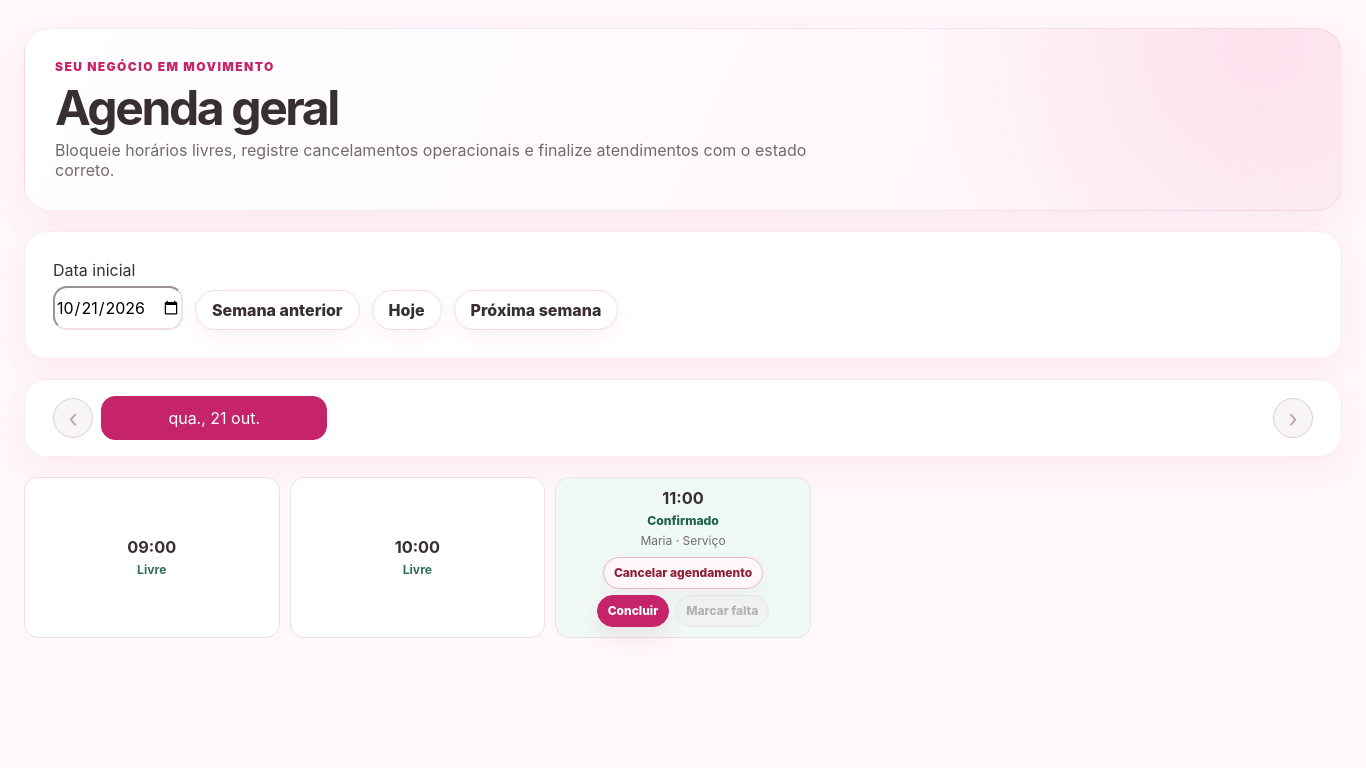
recuperação e período da agenda da dona › exige leitura canônica após resposta de escrita incerta
Click the button "09:00 Livre".
click(152, 557)  # box [24,477,280,638]
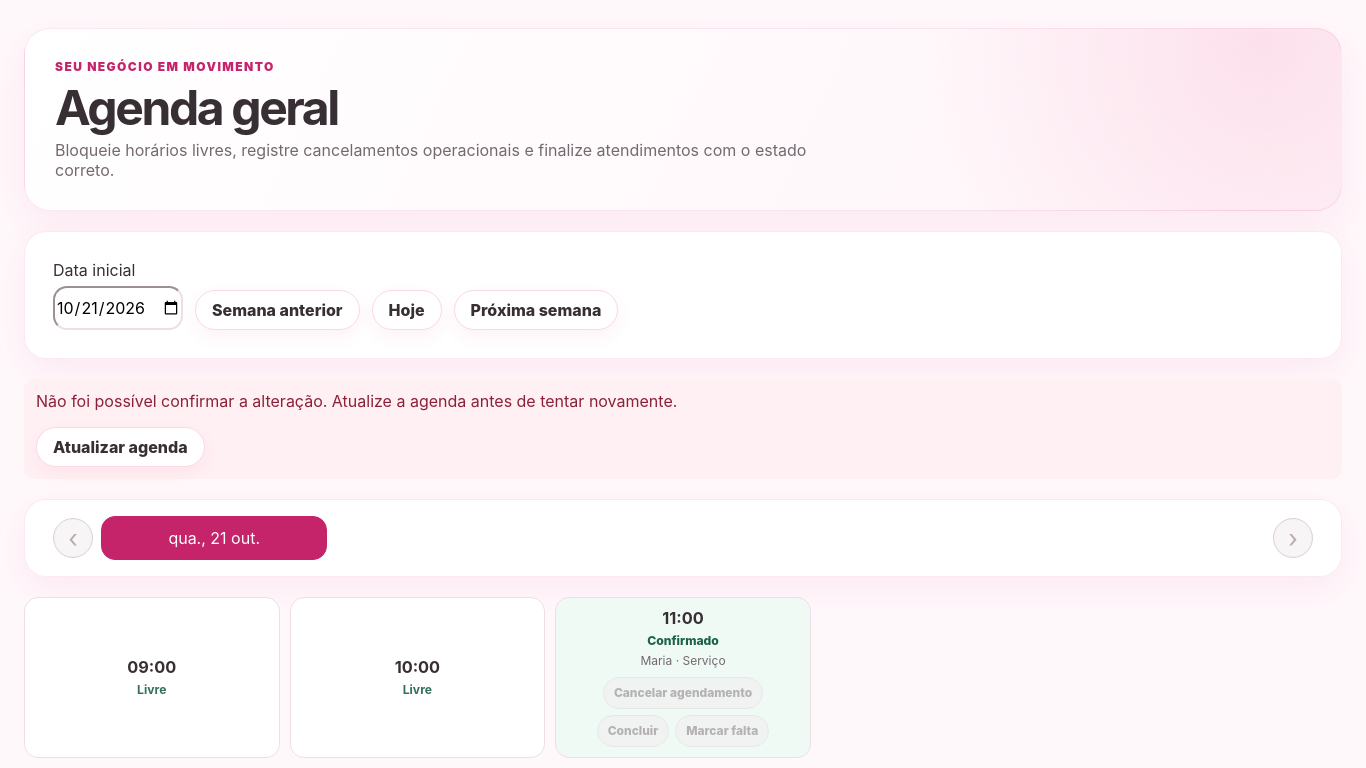
Now the text "Não foi possível confirmar a alteração" is shown, box [36,391,677,411]
Now the button "09:00 Livre" is disabled, box [24,597,280,758]
Click the button "Atualizar agenda".
click(120, 447)  # box [36,427,204,467]
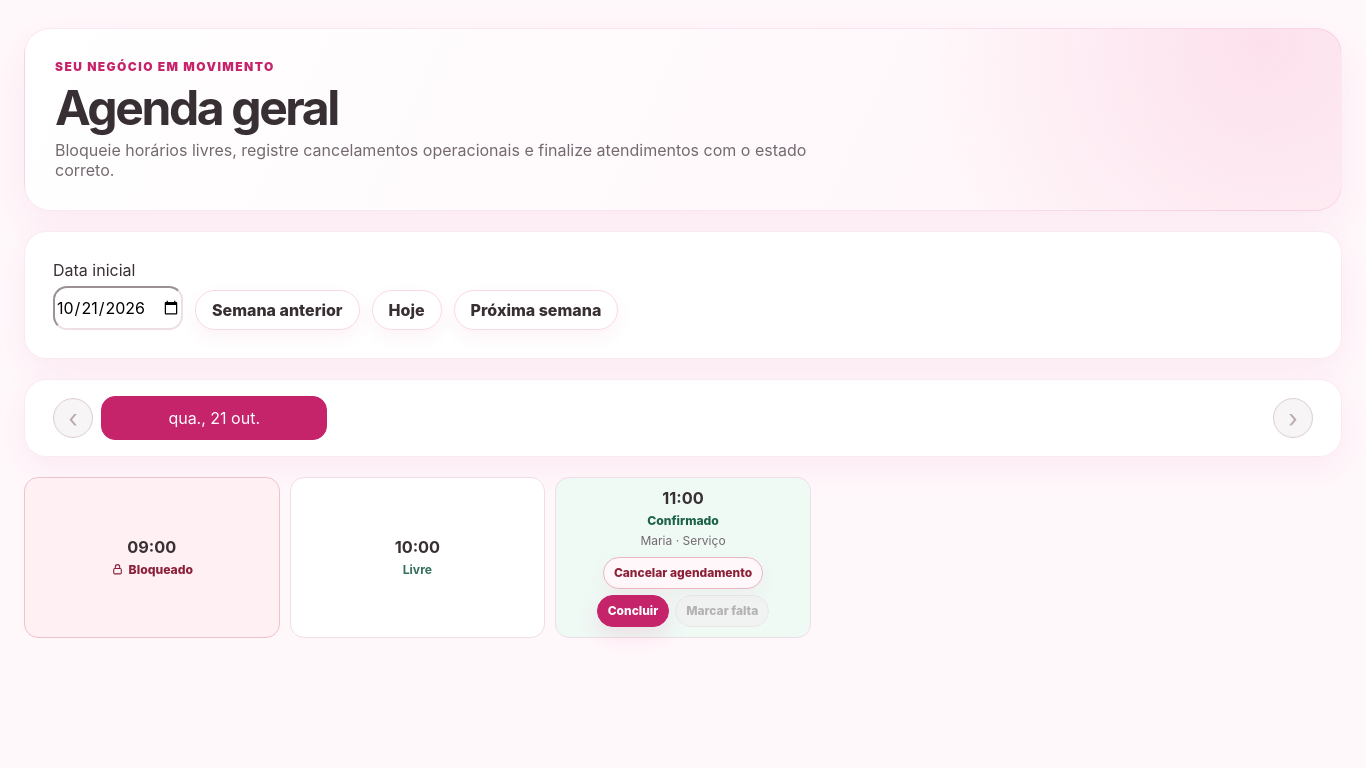
Now the button "09:00 Bloqueado" is shown, box [24,477,280,638]
